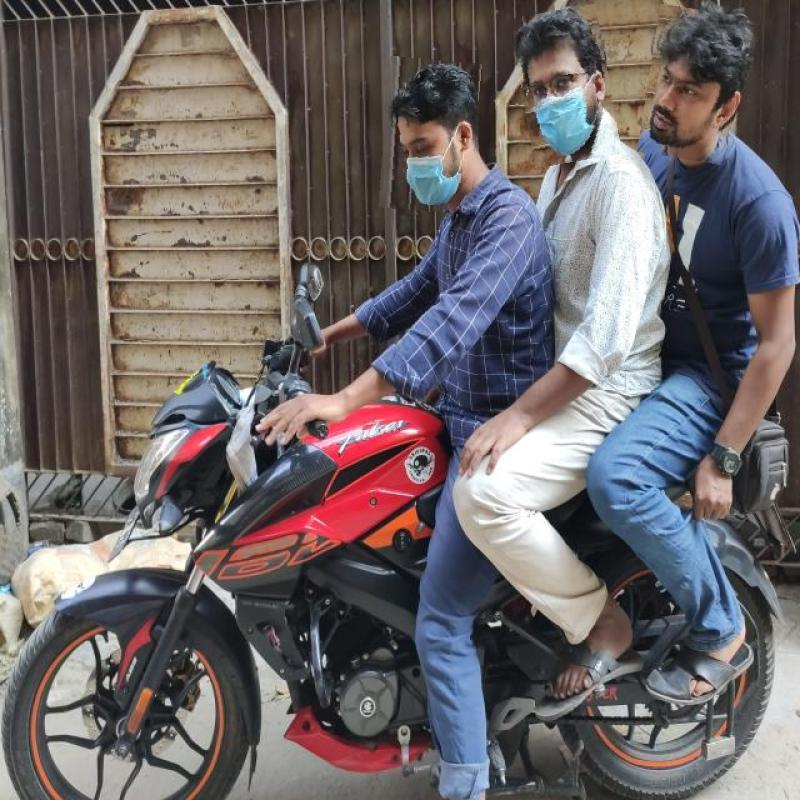nohelmet: (516, 7, 616, 165), (642, 7, 742, 163), (380, 59, 479, 214)
